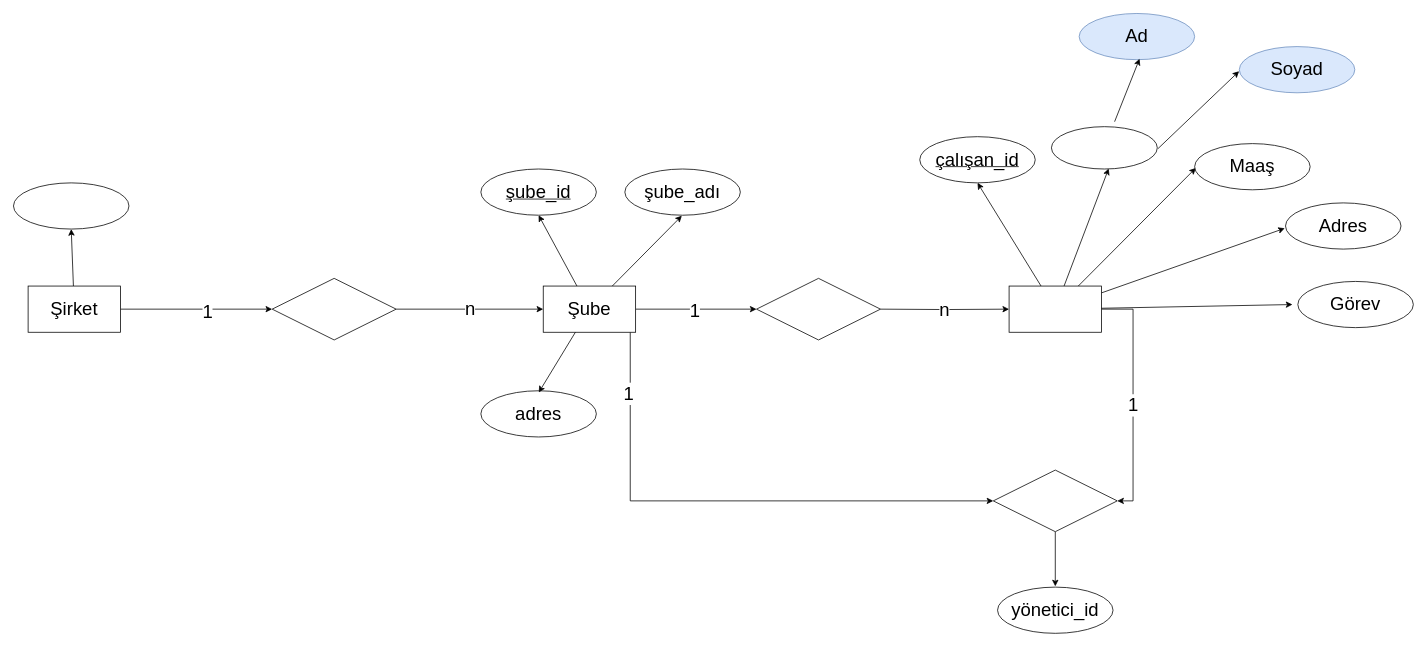
Some shapes in this 1427 by 647 pixel diagram are drawn without their labels. The shapes that lost their labels are listed below. From the top down, each one's centre as x and y in pixels, then its label:
(1104,147): Tam_Ad
(71,205): Şirket_id
(333,309): Sahip
(818,309): Çalışır
(1054,308): Çalışan
(1055,500): Yönetir
